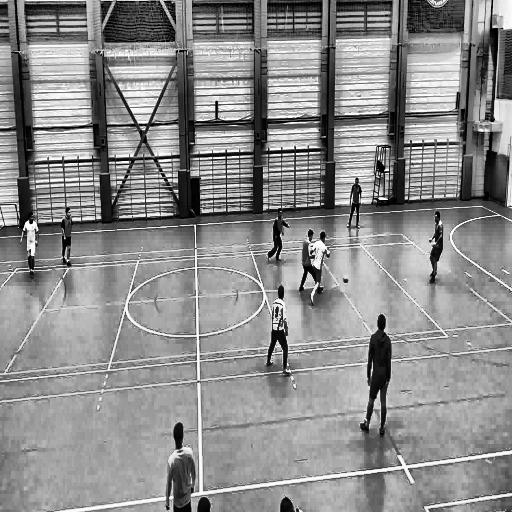ball: (342, 273, 351, 288)
player: (359, 312, 392, 441), (165, 421, 195, 512), (266, 284, 292, 376), (298, 229, 324, 295), (310, 232, 330, 307), (19, 212, 40, 280), (267, 206, 290, 264), (427, 210, 445, 284), (347, 175, 362, 229), (60, 207, 73, 269)
